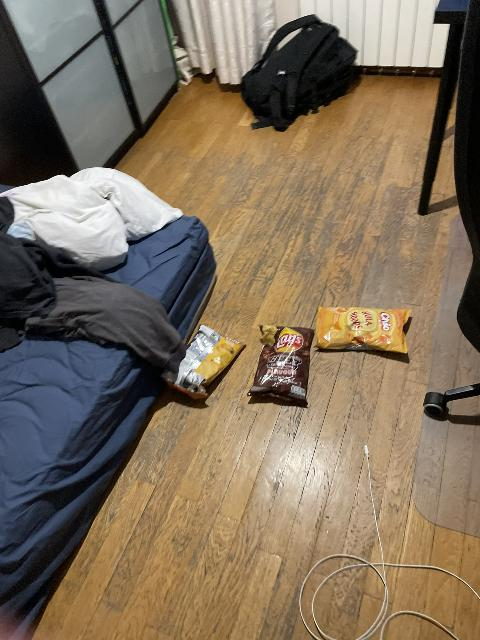Chio Cascaval 125g: (162, 325, 243, 399)
Chio Hula Hoops Cheese 70g: (318, 305, 411, 352)
Lays Beef Grilled Ribs 125g: (247, 324, 314, 407)
